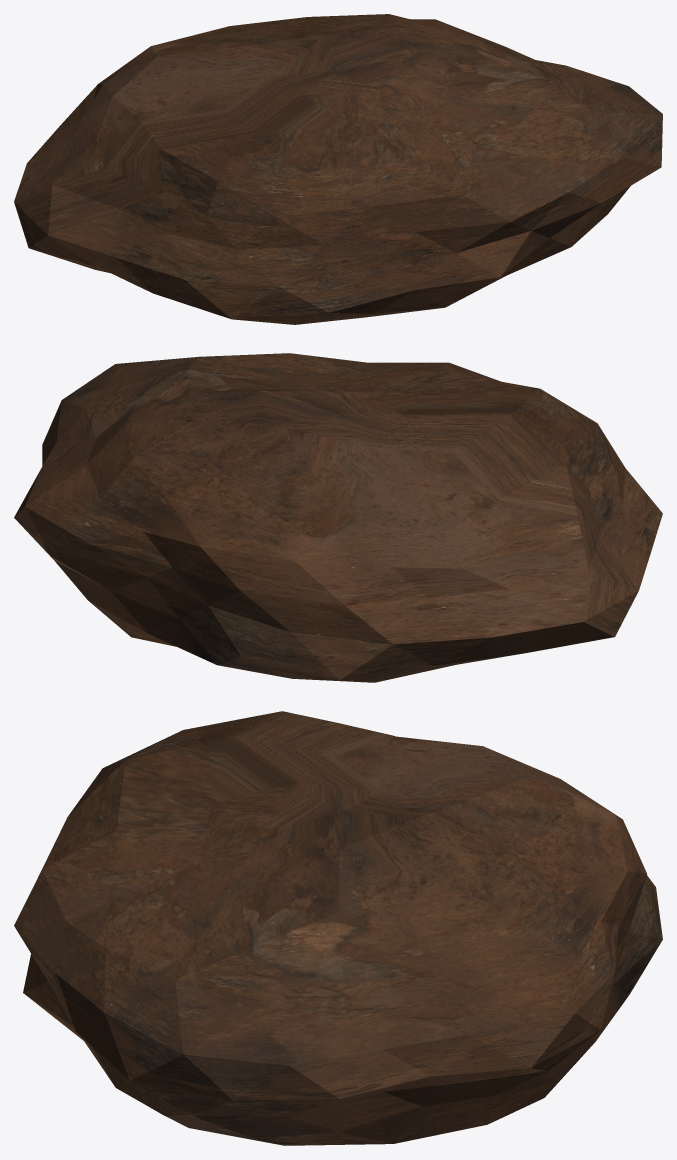
File: pebble_b.glb
3 views of the same model, one above another, from view 1: azimuth 30°, elevation 25°; view 2: azimuth 150°, elevation 25°; view 3: azimuth 270°, elevation 25° (orthographic). The views are drawn at different scales.
Visible parts, largest first — view 1: pebble_b; view 2: pebble_b; view 3: pebble_b.
Part boxes in pixels (x1,y1,x2,y2): pebble_b: (14, 14, 662, 324); pebble_b: (14, 353, 662, 682); pebble_b: (14, 711, 662, 1145).
Size of the model in its own units: 0.1671 by 0.0588 by 0.1331.
Materials: 1 (1 with a texture image).
